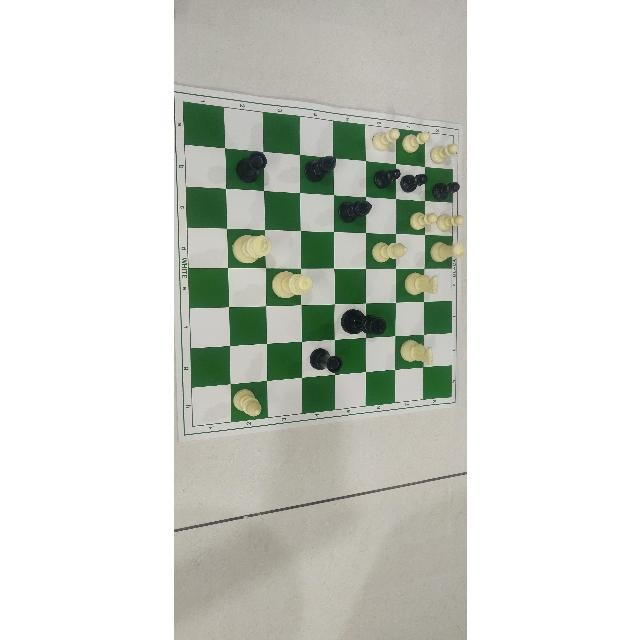black-bishop: (301, 149, 340, 185), (337, 200, 377, 223)
black-king: (336, 304, 388, 341)
black-pawn: (371, 167, 402, 190), (428, 181, 459, 202), (402, 170, 428, 193)
black-rook: (228, 150, 272, 182), (303, 345, 347, 374)
white-bishop: (227, 387, 266, 418), (367, 242, 411, 261)
white-king: (228, 234, 276, 265)
white-knight: (400, 271, 439, 299), (397, 342, 439, 366)
white-pawn: (402, 129, 432, 155), (406, 209, 435, 231), (373, 125, 398, 150), (435, 211, 464, 232), (429, 143, 462, 161)
white-queen: (269, 271, 315, 301)
white-rook: (429, 241, 464, 265)
